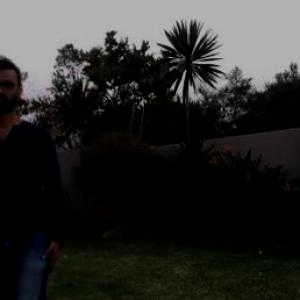follow: (1, 75, 59, 299)
